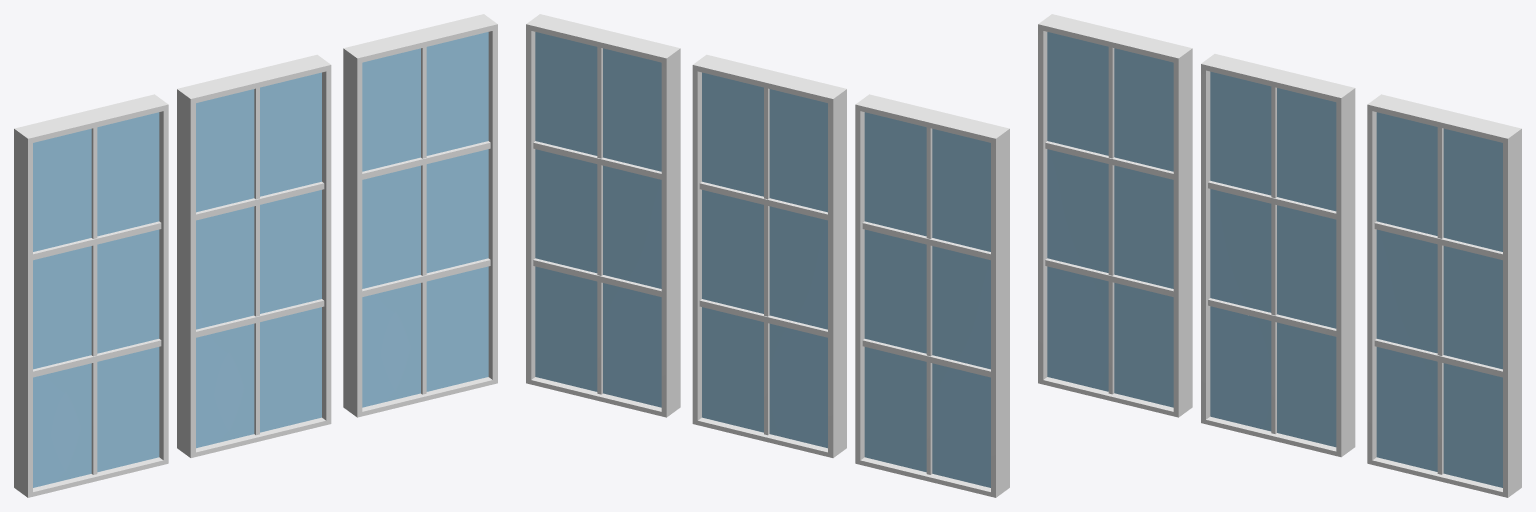
File: window_013.fbx
The picture shows the model from 3 angles, left to right: view 1: azimuth 30°, elevation 25°; view 2: azimuth 150°, elevation 25°; view 3: azimuth 330°, elevation 25°; orthographic projection.
Parts seen in each view (by area): view 1: window_013; view 2: window_013; view 3: window_013.
Boxes of the visible parts, bbox=[...] form: window_013: bbox=[14, 14, 497, 497]; window_013: bbox=[526, 14, 1009, 497]; window_013: bbox=[1038, 14, 1521, 497].
Bounding box in the file's own units: 362 × 18.62 × 265.
